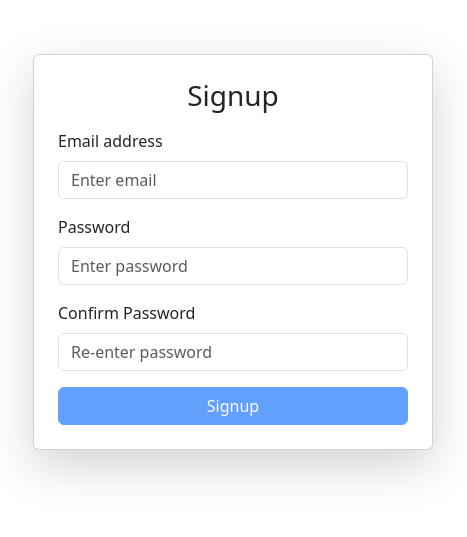
Test case: Signup Component › shows error when passwords do not match
Type "test@example.com" into the field labelled "Email address" at point(233, 180), box [58, 161, 408, 199]
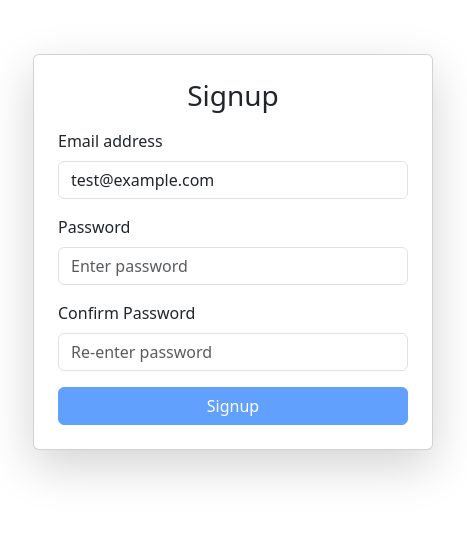
Type "123456" into the password field labelled "Password" at point(233, 266), box [58, 247, 408, 285]
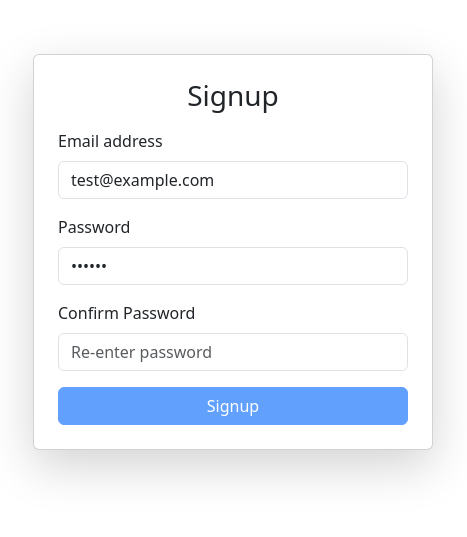
Type "654321" into the password field labelled "Confirm Password" at point(233, 352), box [58, 333, 408, 371]
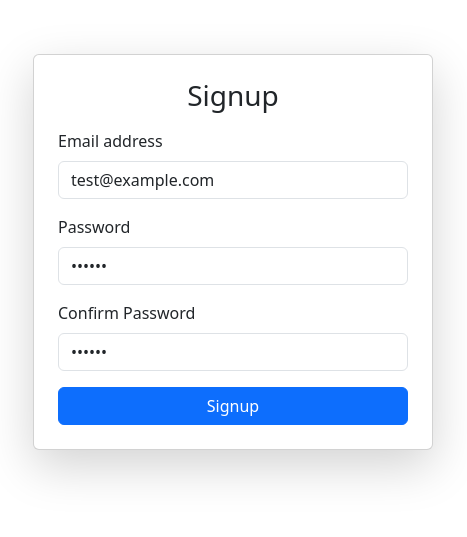
Click the button "Signup" at point(233, 406), box [58, 387, 408, 425]
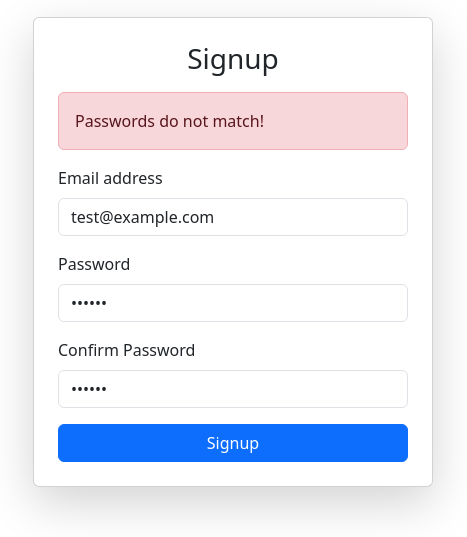
Now the text "Passwords do not match!" is shown, box [58, 92, 408, 150]
